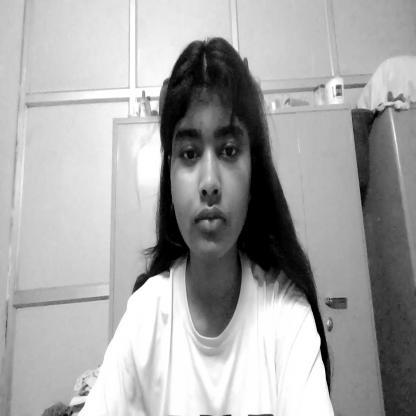Normal: (161, 40, 259, 273)
